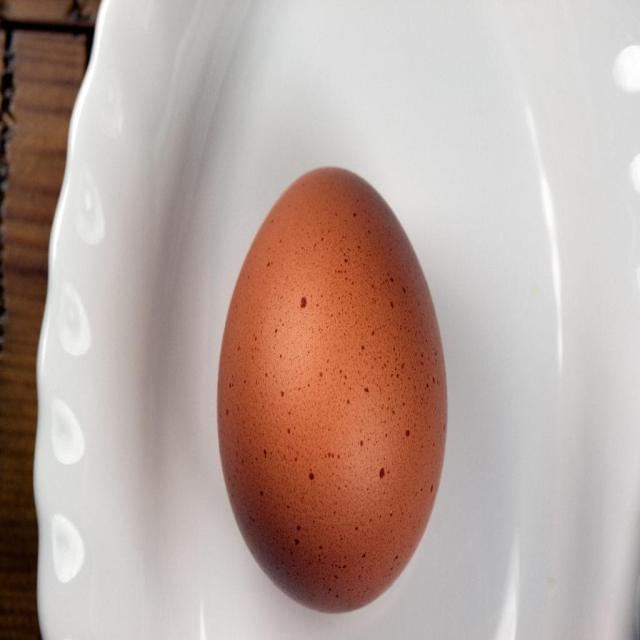Egg: (219, 165, 447, 614)
